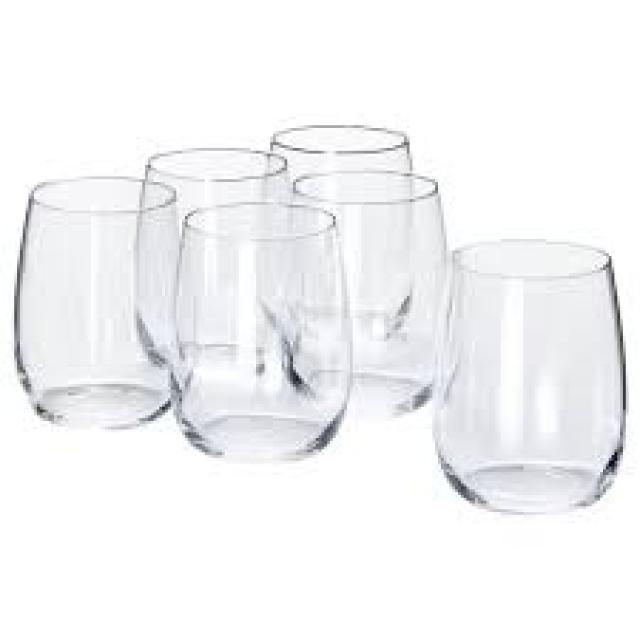Glass: (437, 240, 626, 514), (171, 205, 349, 458), (14, 172, 187, 432), (175, 204, 345, 461), (289, 171, 456, 417), (262, 125, 419, 348), (138, 146, 292, 370)
